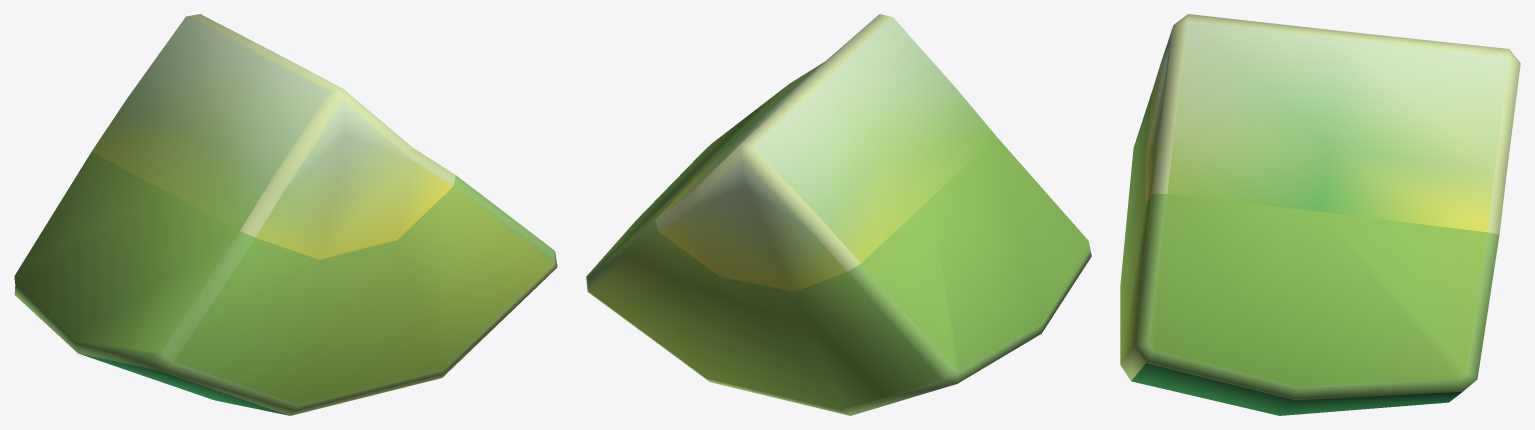
The model's file is cucumber_002.fbx.
3 views of the same model, side by side, from view 1: azimuth 30°, elevation 25°; view 2: azimuth 150°, elevation 25°; view 3: azimuth 270°, elevation 25° (orthographic). The views are drawn at different scales.
Visible parts, largest first — view 1: cucumber_002; view 2: cucumber_002; view 3: cucumber_002.
Boxes of the visible parts, bbox=[...] form: cucumber_002: bbox=[14, 14, 557, 415]; cucumber_002: bbox=[586, 14, 1091, 415]; cucumber_002: bbox=[1120, 14, 1520, 415].
Size of the model in its own units: 4.11 by 3.03 by 2.97.
